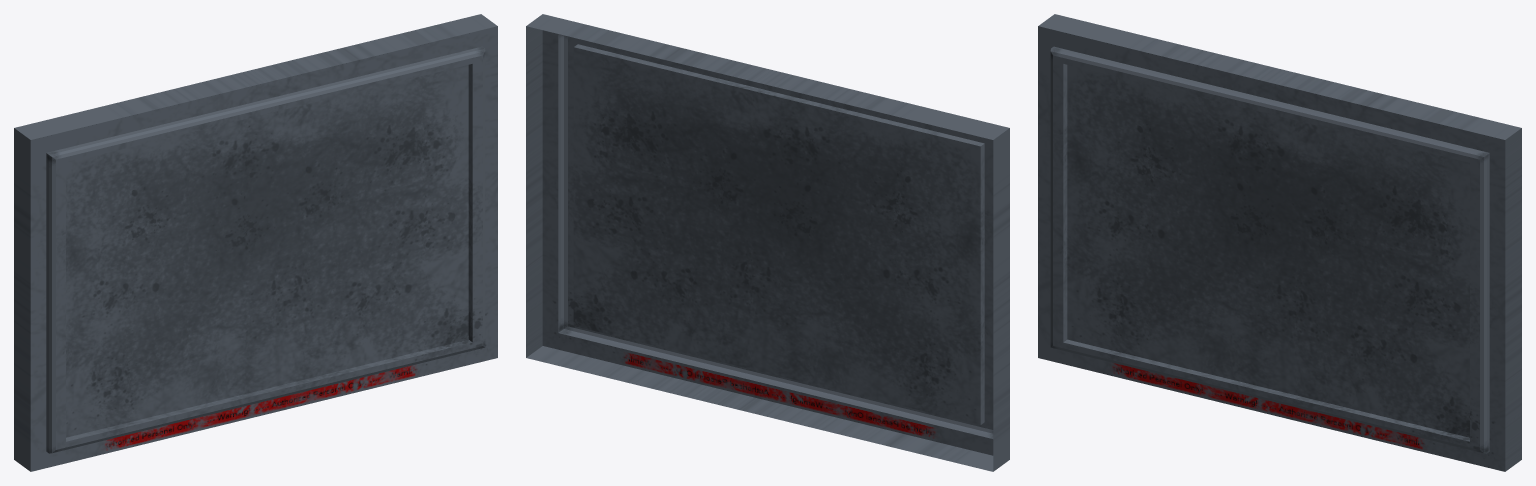
File: puzzle_Base.fbx
3 views of the same model, side by side, from view 1: azimuth 30°, elevation 25°; view 2: azimuth 150°, elevation 25°; view 3: azimuth 330°, elevation 25° (orthographic).
Visible parts, largest first — view 1: Puzzle_ButtonSequence; view 2: Puzzle_ButtonSequence; view 3: Puzzle_ButtonSequence.
Part boxes in pixels (<box>): Puzzle_ButtonSequence: <box>14,14,497,471</box>; Puzzle_ButtonSequence: <box>526,14,1009,471</box>; Puzzle_ButtonSequence: <box>1038,14,1521,471</box>.
Size of the model in its own units: 105 by 71.05 by 8.41.
